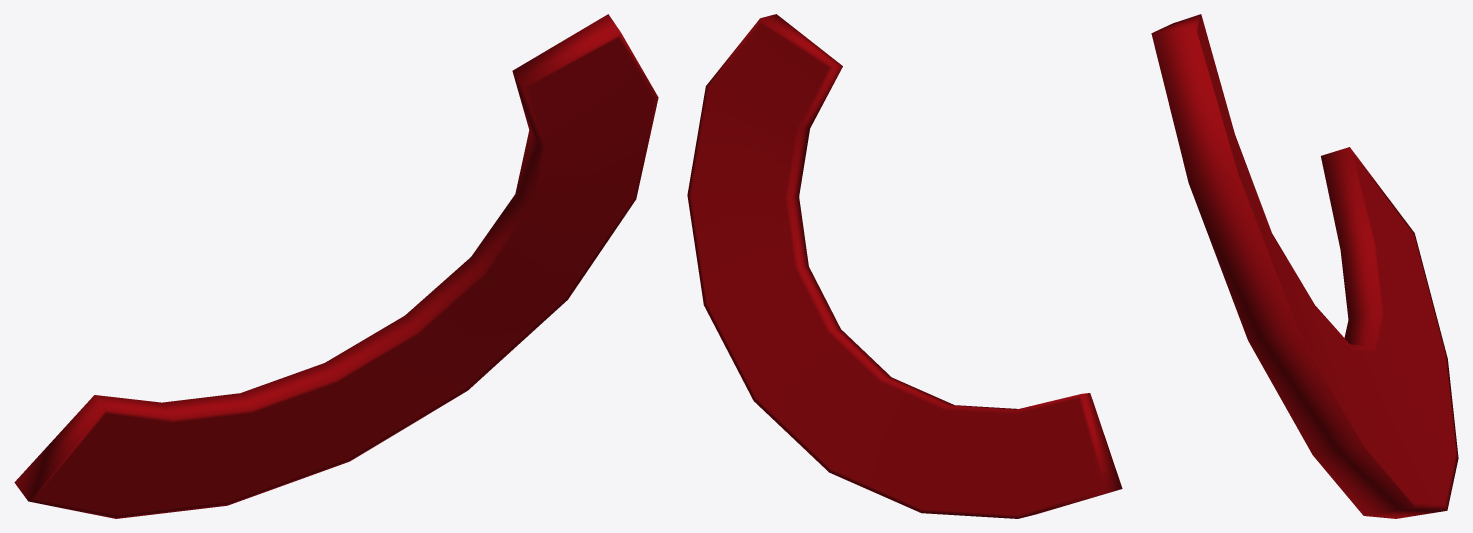
The model's file is AM2_Vesper3_3b.fbx.
3 renders of one model, left to right at view 1: azimuth 30°, elevation 25°; view 2: azimuth 150°, elevation 25°; view 3: azimuth 270°, elevation 25°, orthographic. The views are drawn at different scales.
Visible parts, largest first — view 1: body_barrelHolder_lp; view 2: body_barrelHolder_lp; view 3: body_barrelHolder_lp.
Part boxes in pixels (x1,y1,x2,y2): body_barrelHolder_lp: (14,14,658,518); body_barrelHolder_lp: (687,14,1122,518); body_barrelHolder_lp: (1151,14,1458,518).
Bounding box in the file's own units: 14.85 × 11.94 × 5.23.
